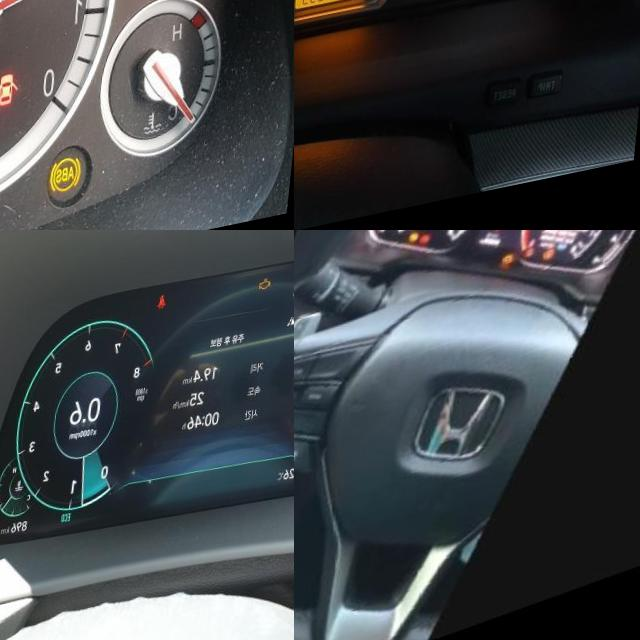Doors: (3, 86, 31, 123)
